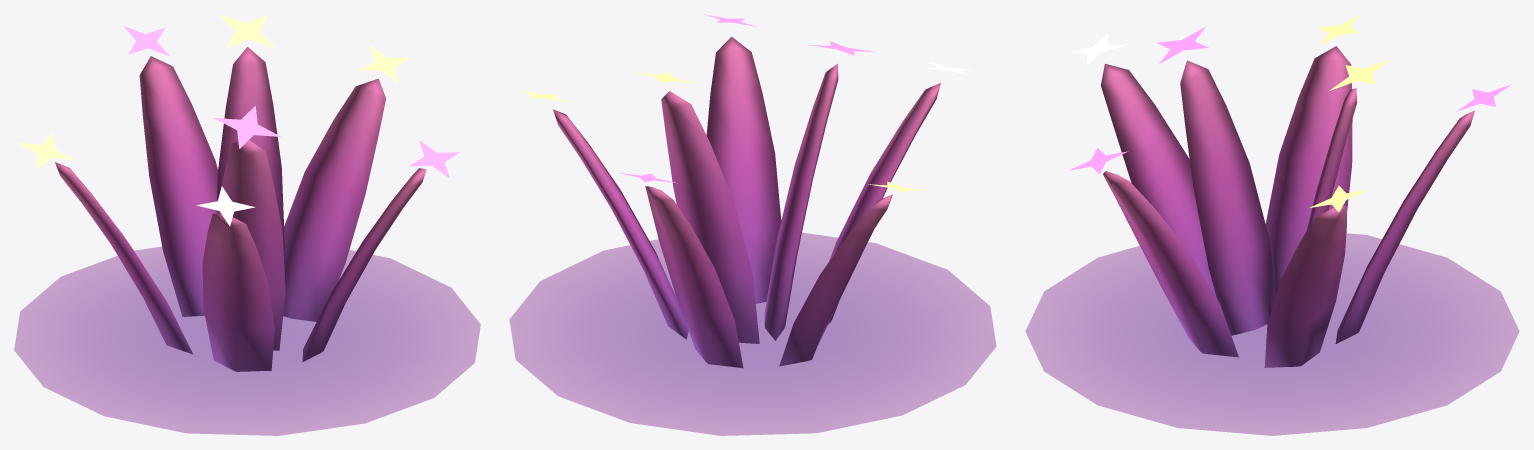
File: tall_grass_glitter.glb
3 renders of one model, left to right at view 1: azimuth 30°, elevation 25°; view 2: azimuth 150°, elevation 25°; view 3: azimuth 270°, elevation 25°, orthographic. The views are drawn at different scales.
Parts seen in each view (by area): view 1: Fronds; view 2: Fronds; view 3: Fronds.
Boxes of the visible parts, bbox=[...] form: Fronds: bbox=[14, 14, 480, 435]; Fronds: bbox=[509, 14, 996, 435]; Fronds: bbox=[1025, 14, 1519, 435].
Bounding box in the file's own units: 0.92 × 0.611 × 0.92.
